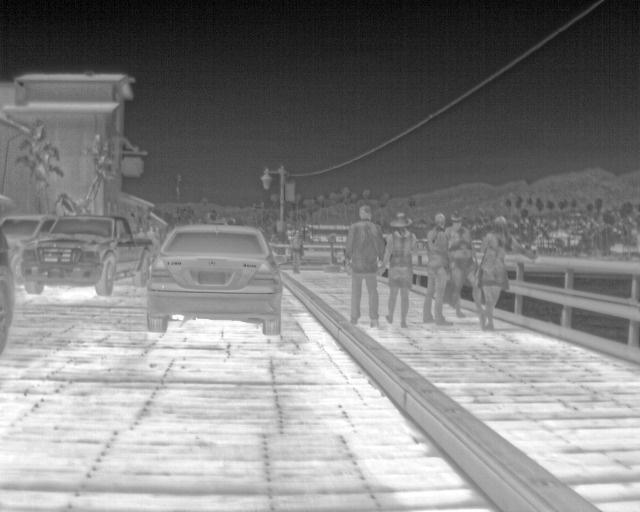bicycle: (144, 225, 282, 334), (26, 211, 159, 294), (0, 212, 55, 284)
empty: (341, 205, 380, 328), (377, 213, 419, 326), (446, 216, 486, 320), (479, 214, 510, 331), (422, 213, 452, 327), (289, 228, 304, 274)
